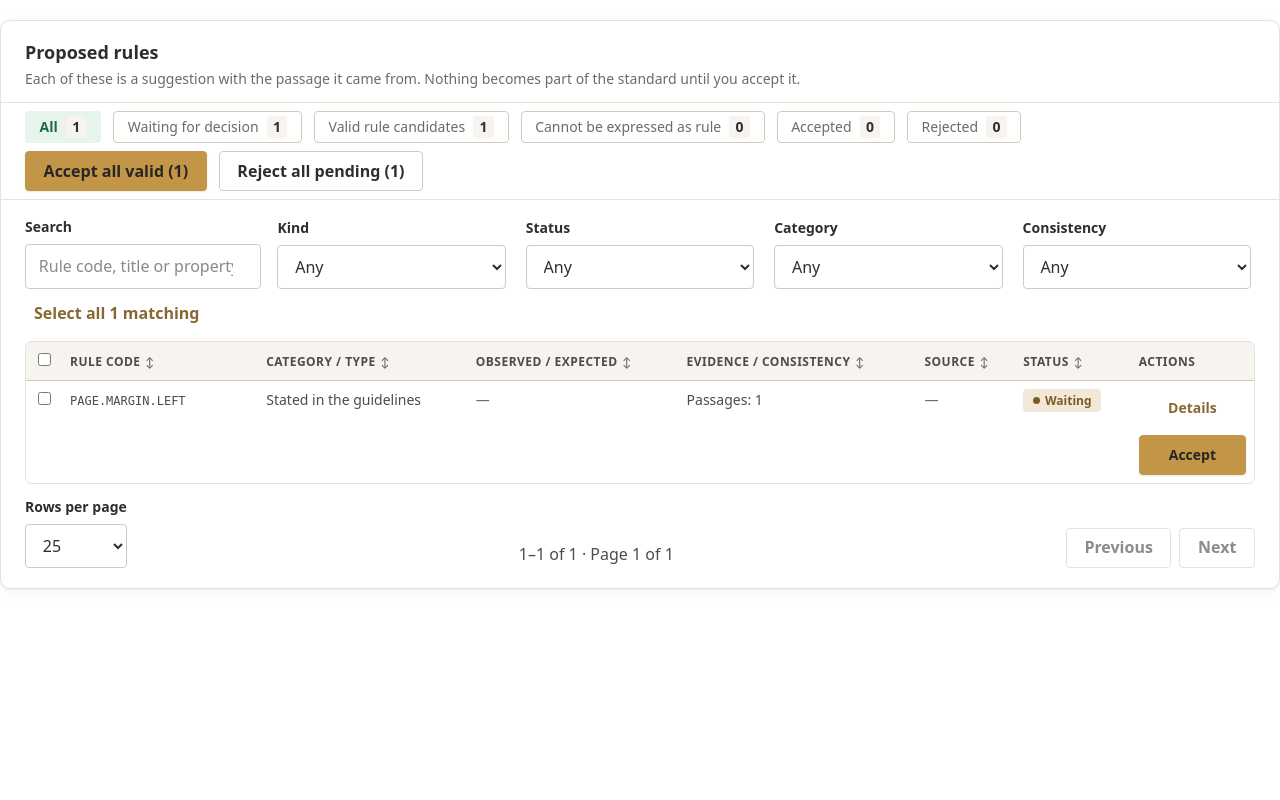
the proposal review screen › tells a reviewer plainly when the draft moved under them
This screenshot has width=1280, height=800.
Expected: the text "PAGE.MARGIN.LEFT" is shown, [70,394,186,408]
Click the button "Accept" at (1192, 455), box [1139,435,1246,475]
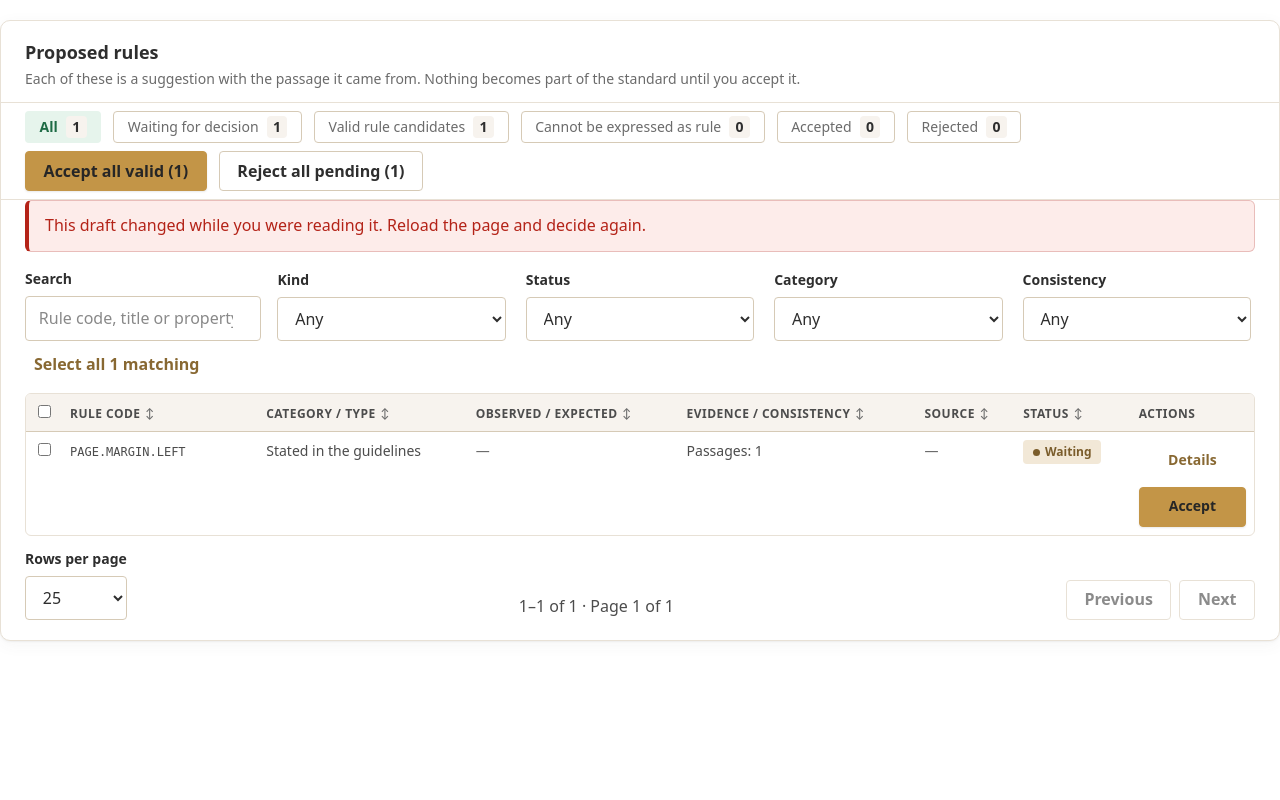
Now the message reads "This draft changed while you were reading it. Reload the page and decide again.", box [45,214,646,236]
